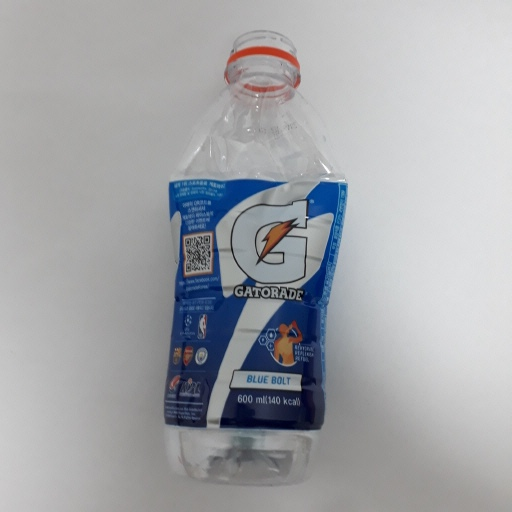Plastic_0: (164, 29, 350, 492)
